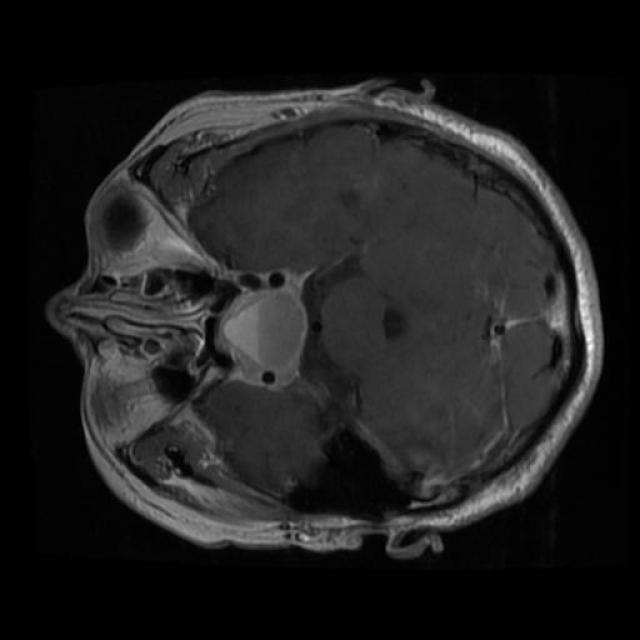Pituitary: (215, 284, 307, 385)
